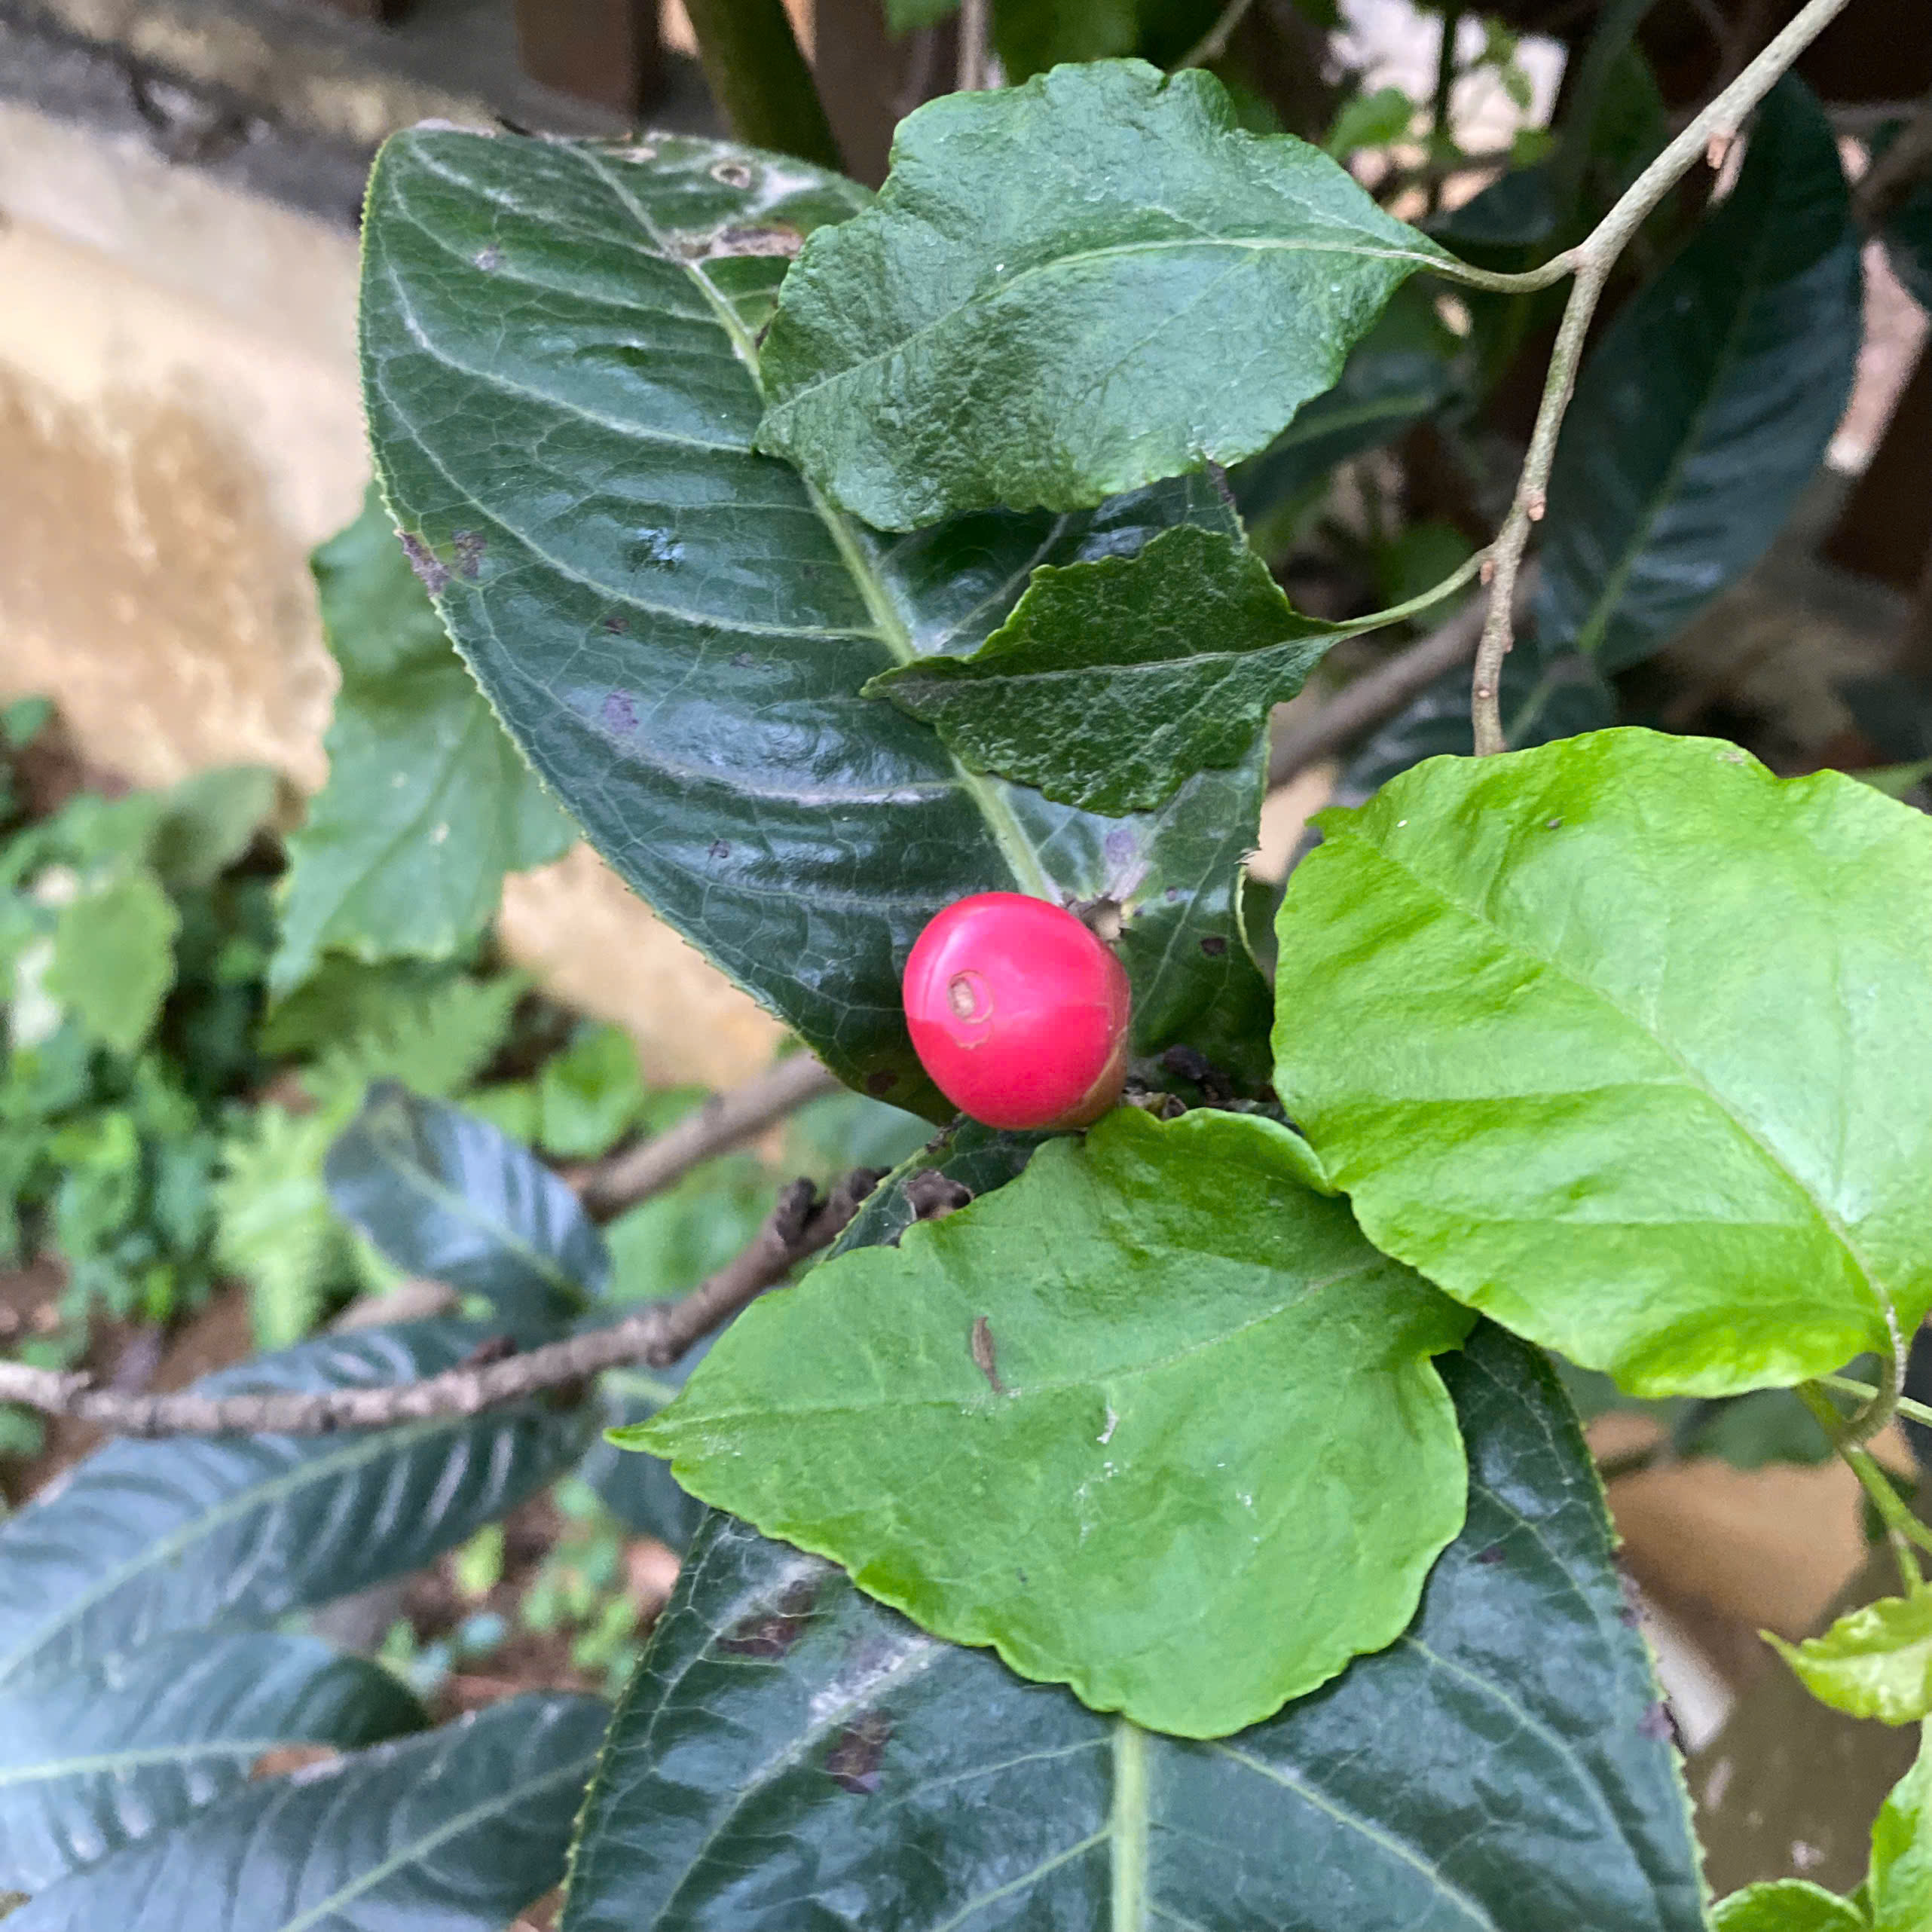hoa_hai_duong: (770, 803, 1185, 1159)
